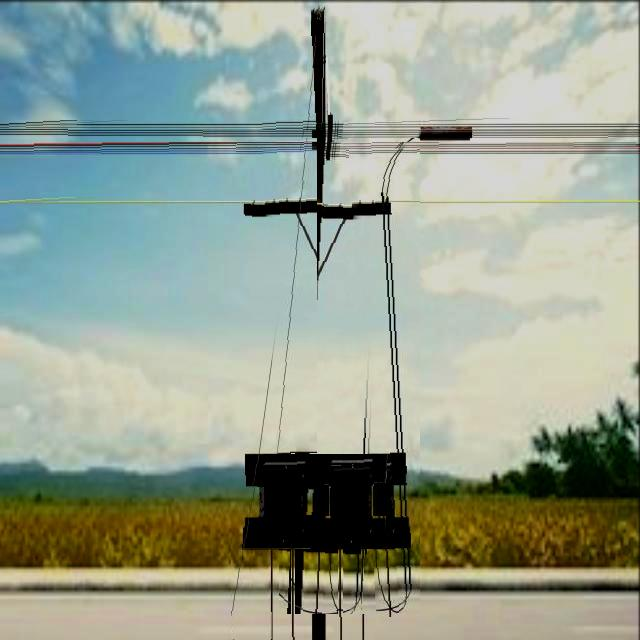crossarm: (246, 454, 388, 487), (242, 204, 389, 221)
pole: (311, 10, 325, 640)
transformer: (244, 516, 386, 549), (330, 465, 374, 539), (265, 466, 306, 534)
wire: (279, 139, 413, 614), (368, 137, 420, 617), (273, 36, 317, 454), (0, 142, 636, 152), (0, 130, 640, 138), (231, 488, 255, 637), (0, 120, 181, 128), (334, 118, 574, 124), (0, 197, 162, 205), (361, 547, 365, 638), (291, 547, 295, 637), (339, 550, 343, 636), (270, 544, 272, 639)
